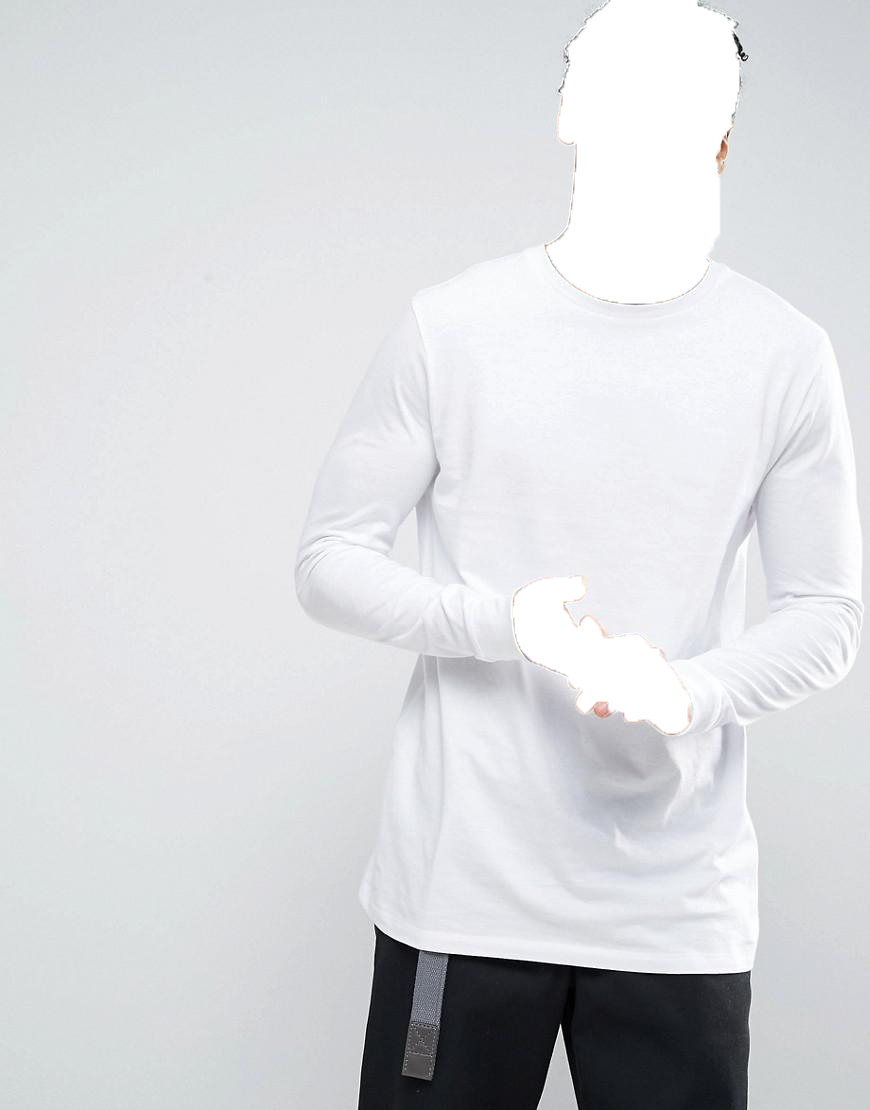teeshirt: (286, 246, 870, 993)
